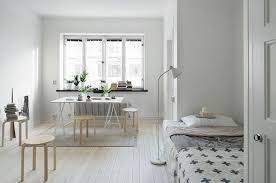Bed: (163, 112, 247, 183)
Chair: (22, 133, 58, 181), (3, 115, 30, 146), (73, 113, 97, 144), (120, 104, 142, 135)
Lamp: (152, 64, 183, 167)
Table: (50, 94, 124, 133)
